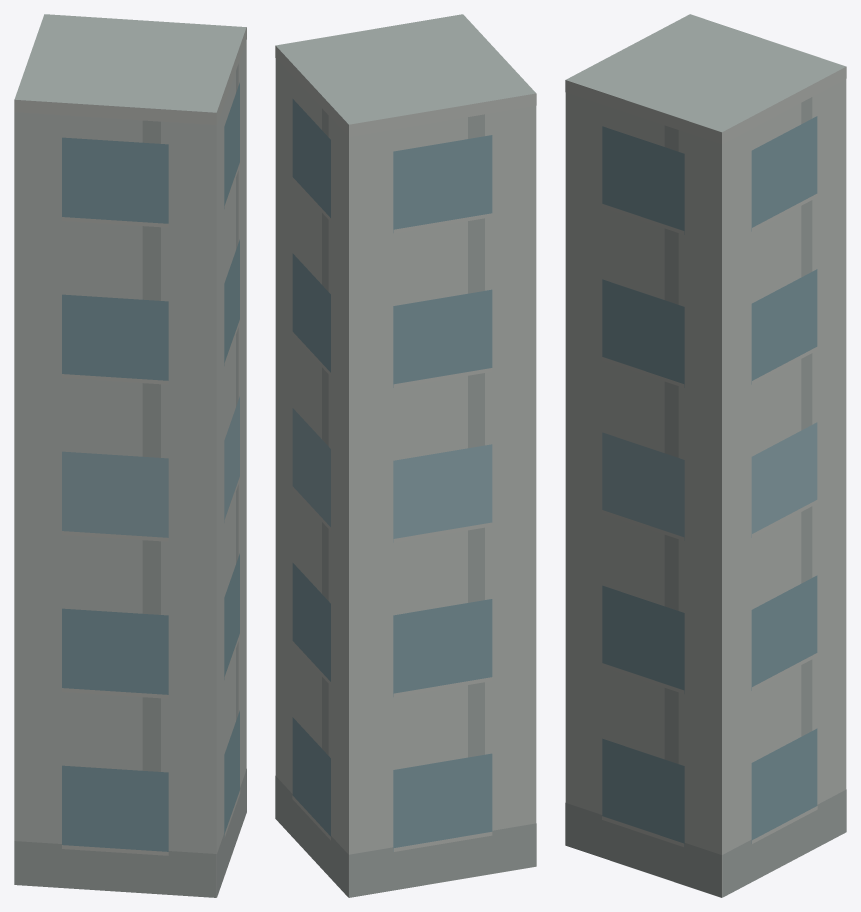
File: survey-upis-32634683.glb
3 renders of one model, left to right at view 1: azimuth 30°, elevation 25°; view 2: azimuth 150°, elevation 25°; view 3: azimuth 270°, elevation 25°, orthographic. The views are drawn at different scales.
Visible parts, largest first — view 1: survey-upis-32634683.tmp; view 2: survey-upis-32634683.tmp; view 3: survey-upis-32634683.tmp.
Part boxes in pixels (x1=…): survey-upis-32634683.tmp: x1=14, y1=14, x2=246, y2=897; survey-upis-32634683.tmp: x1=275, y1=14, x2=536, y2=897; survey-upis-32634683.tmp: x1=565, y1=14, x2=846, y2=897.
Bounding box in the file's own units: 5.06 × 15.25 × 5.08.
